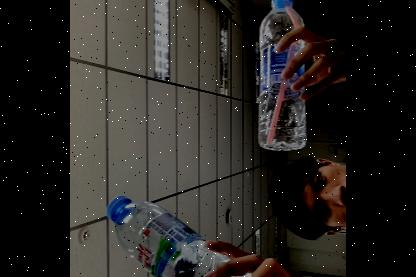Plastic Bottle: (104, 189, 270, 277), (254, 0, 307, 151)
